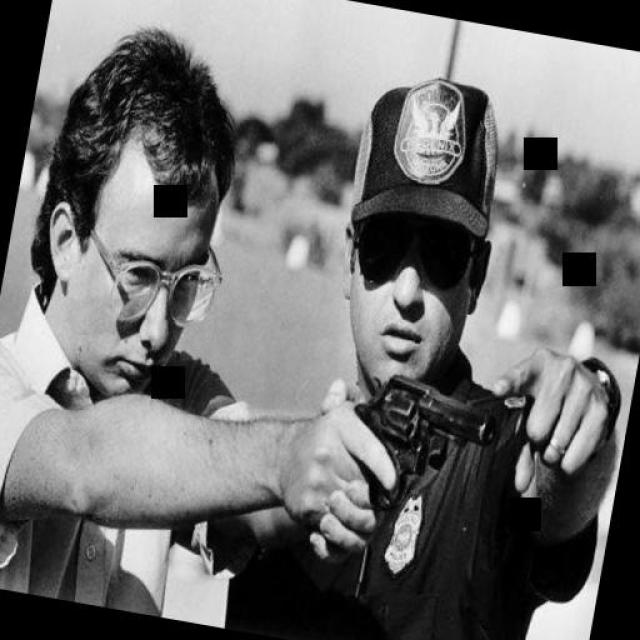gun: (328, 358, 502, 532)
